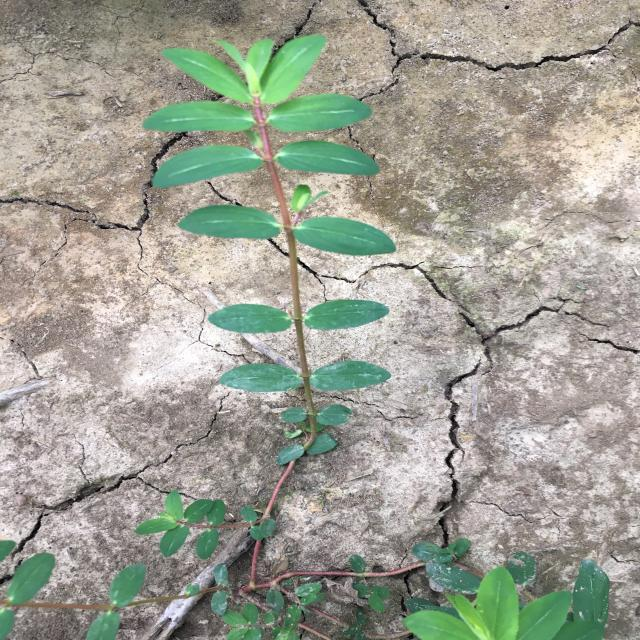SpottedSpurge: (1, 35, 610, 640)
